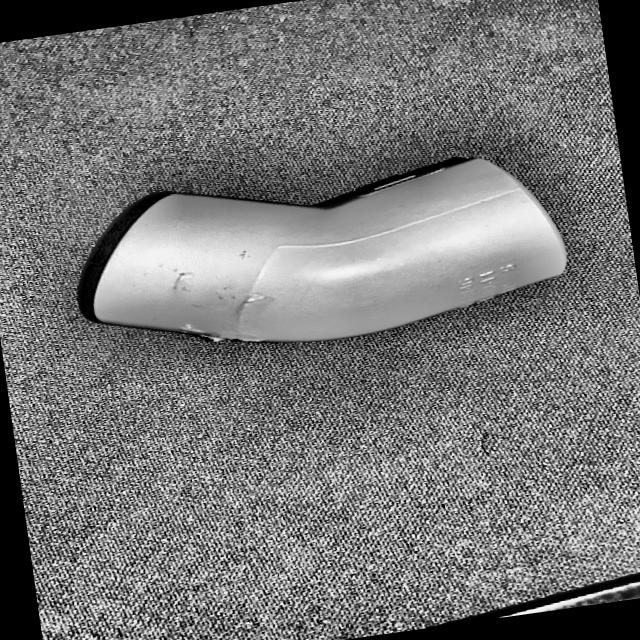ELBOW45: (92, 157, 566, 341)
